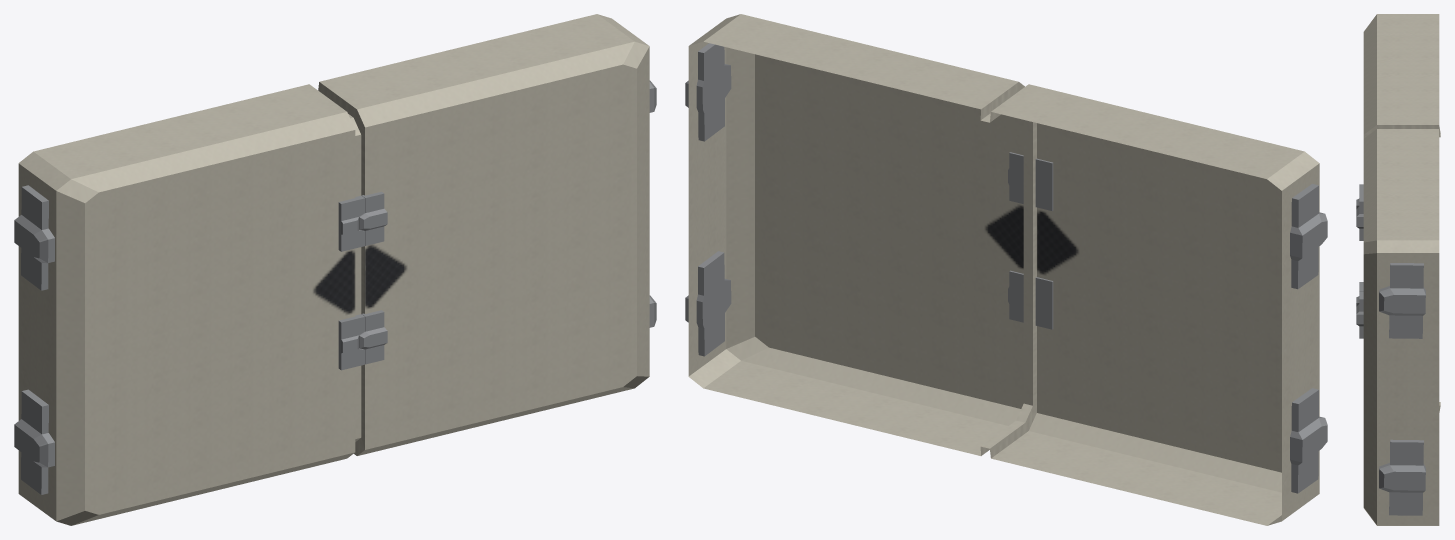
The model's file is WallpCube127.fbx.
3 views of the same model, side by side, from view 1: azimuth 30°, elevation 25°; view 2: azimuth 150°, elevation 25°; view 3: azimuth 270°, elevation 25° (orthographic). The views are drawn at different scales.
Visible parts, largest first — view 1: pCube127; view 2: pCube127; view 3: pCube127.
Boxes of the visible parts, <box> form: pCube127: <box>14,14,656,525</box>; pCube127: <box>685,14,1327,525</box>; pCube127: <box>1356,14,1440,525</box>.
Size of the model in its own units: 81.16 by 43.58 by 11.66.
